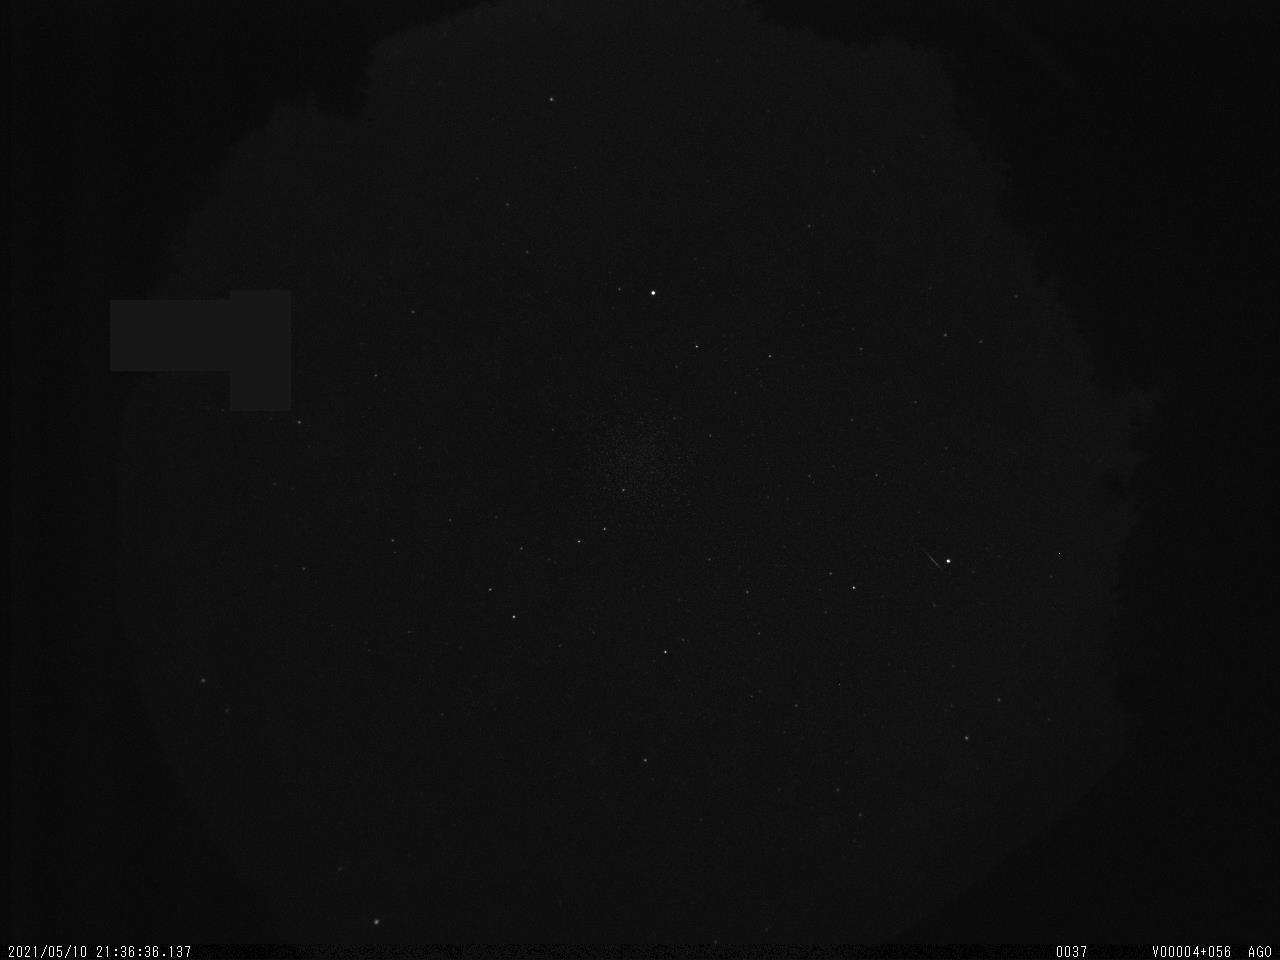meteor: (910, 535, 945, 575)
